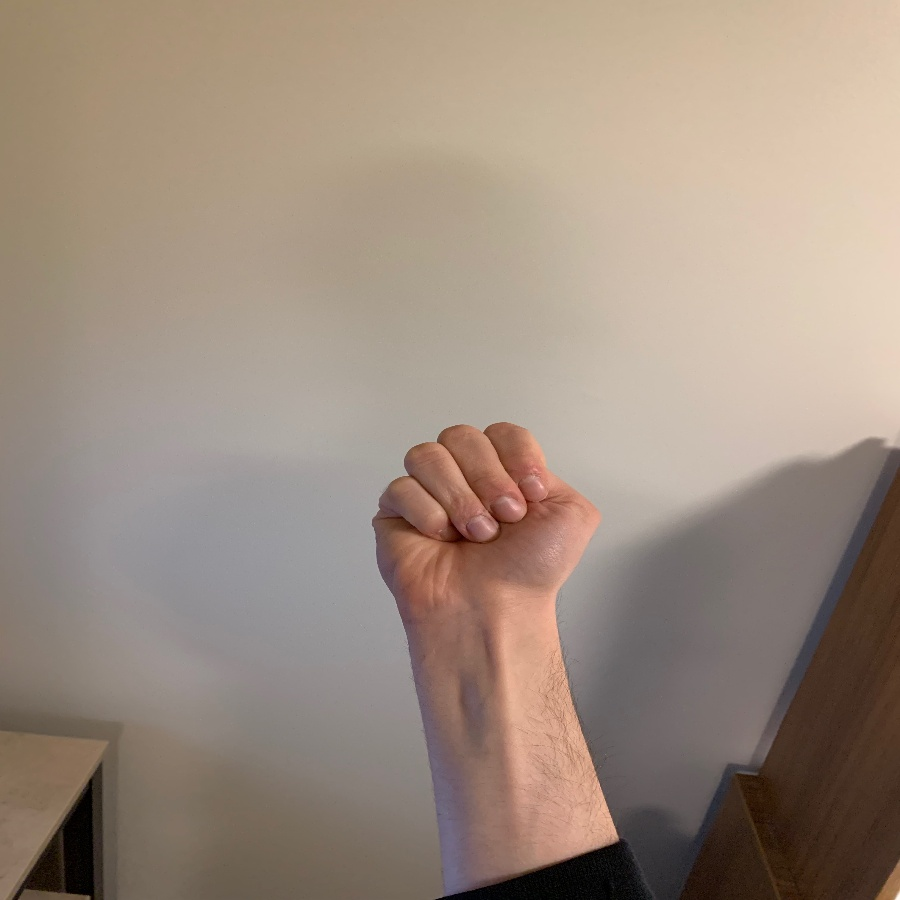tip: (454, 506, 499, 546), (419, 509, 455, 547), (489, 489, 526, 522), (518, 473, 551, 503)
